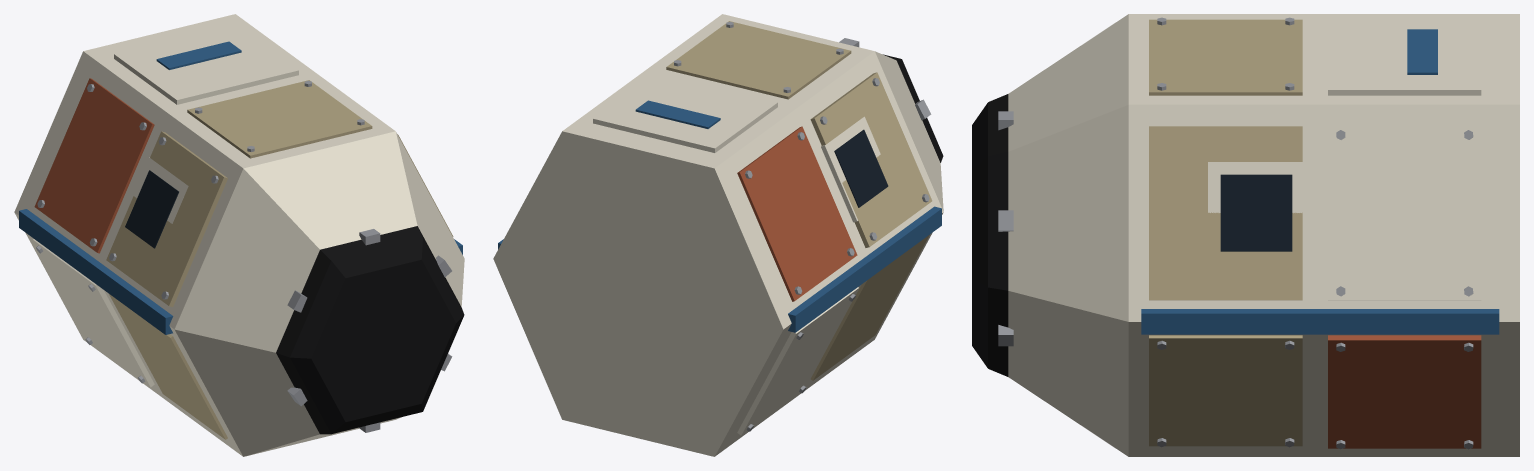
Rendered from pod4_hull.obj.
3 renders of one model, left to right at view 1: azimuth 30°, elevation 25°; view 2: azimuth 150°, elevation 25°; view 3: azimuth 270°, elevation 25°, orthographic. The views are drawn at different scales.
Visible parts, largest first — view 1: pod4_hull; view 2: pod4_hull; view 3: pod4_hull.
Boxes of the visible parts, <box> form: pod4_hull: <box>14,14,464,456</box>; pod4_hull: <box>493,14,943,456</box>; pod4_hull: <box>972,14,1519,456</box>.
Size of the model in its own units: 1.64 by 1.6 by 2.14.
